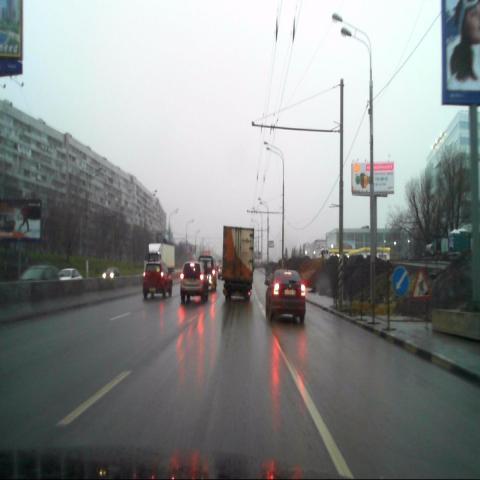4_2_2: (392, 266, 408, 296)
